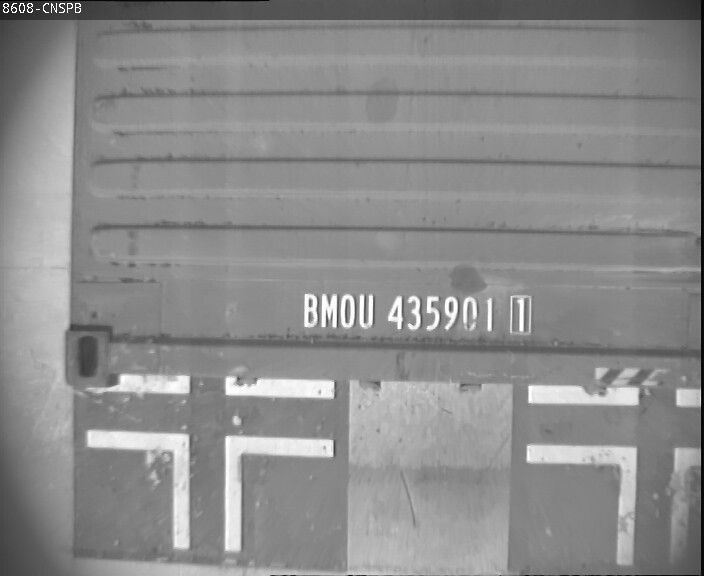groundmarker_1: (84, 427, 333, 549), (525, 443, 704, 565)
